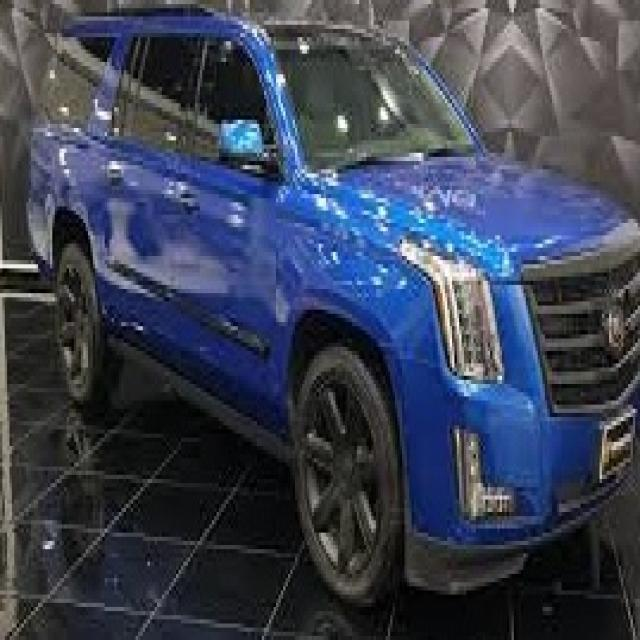blue: (25, 11, 640, 605)
